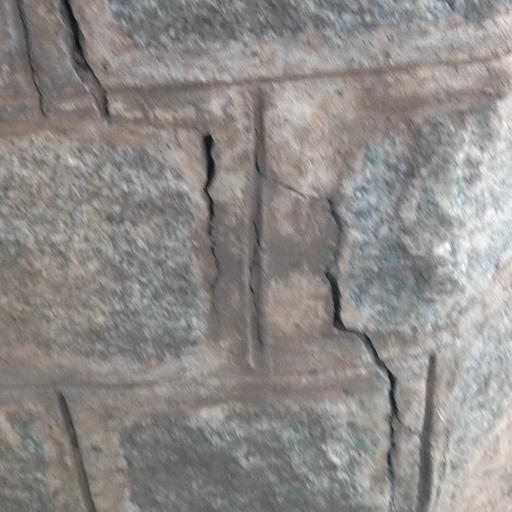major_crack: (255, 112, 409, 508), (52, 1, 158, 141), (189, 115, 240, 309)
